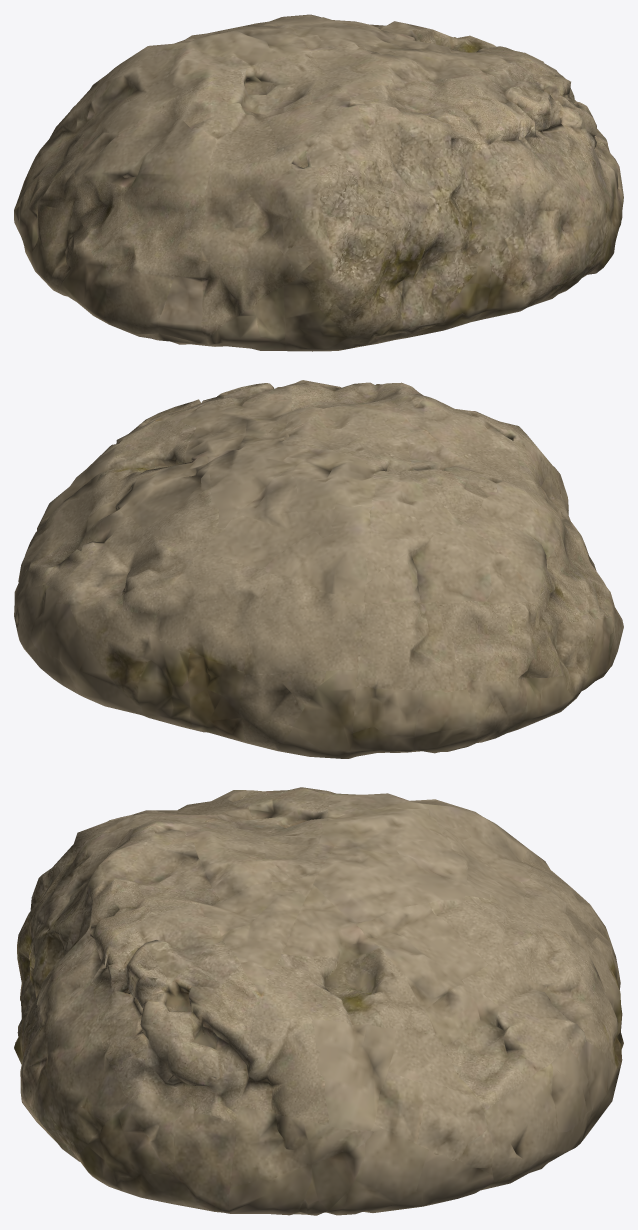
Rendered from roca_alto.glb.
3 views of the same model, one above another, from view 1: azimuth 30°, elevation 25°; view 2: azimuth 150°, elevation 25°; view 3: azimuth 270°, elevation 25° (orthographic). The views are drawn at different scales.
Parts seen in each view (by area): view 1: alto; view 2: alto; view 3: alto.
Part boxes in pixels (x1,y1,x2,y2): alto: (14, 14, 623, 351); alto: (14, 380, 623, 758); alto: (14, 787, 623, 1215).
Bounding box in the file's own units: 2.4 × 0.9016 × 2.07.
Materials: 1 (1 with a texture image).
